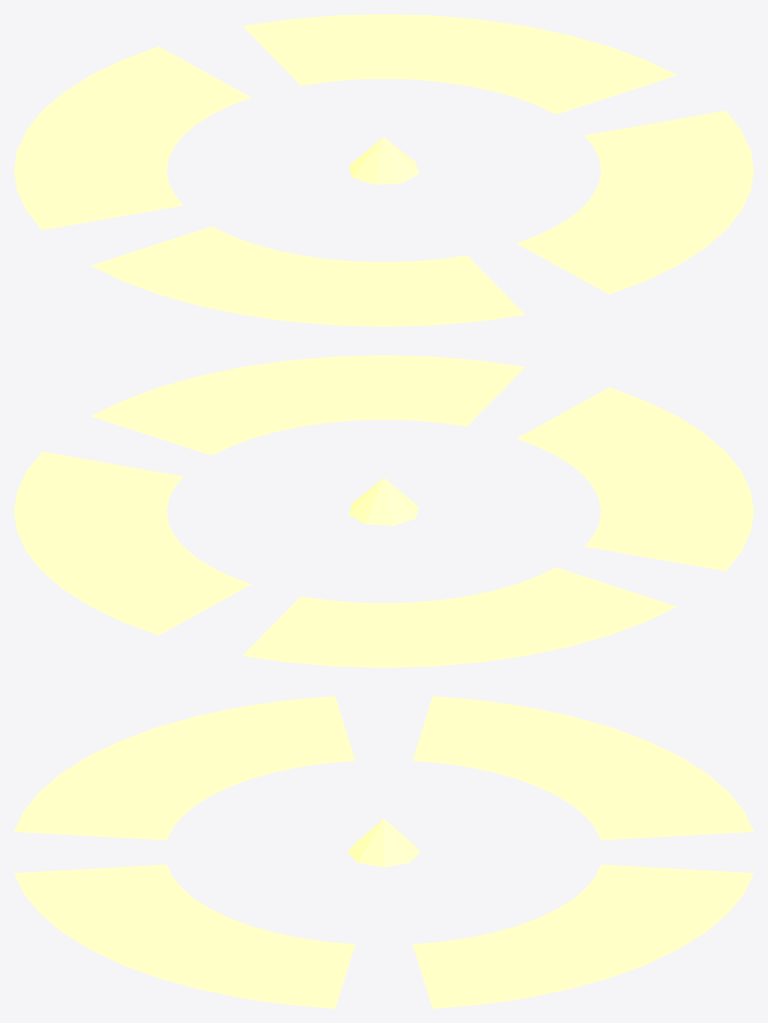
The model's file is target.gltf.
3 views of the same model, one above another, from view 1: azimuth 30°, elevation 25°; view 2: azimuth 150°, elevation 25°; view 3: azimuth 270°, elevation 25° (orthographic).
Parts seen in each view (by area): view 1: Torus; view 2: Torus; view 3: Torus.
Boxes of the visible parts, x1,y1,x2,y2 form: Torus: [14, 14, 753, 326]; Torus: [14, 355, 753, 667]; Torus: [14, 696, 753, 1008].
Bounding box in the file's own units: 0.2797 × 0.0141 × 0.2797.
